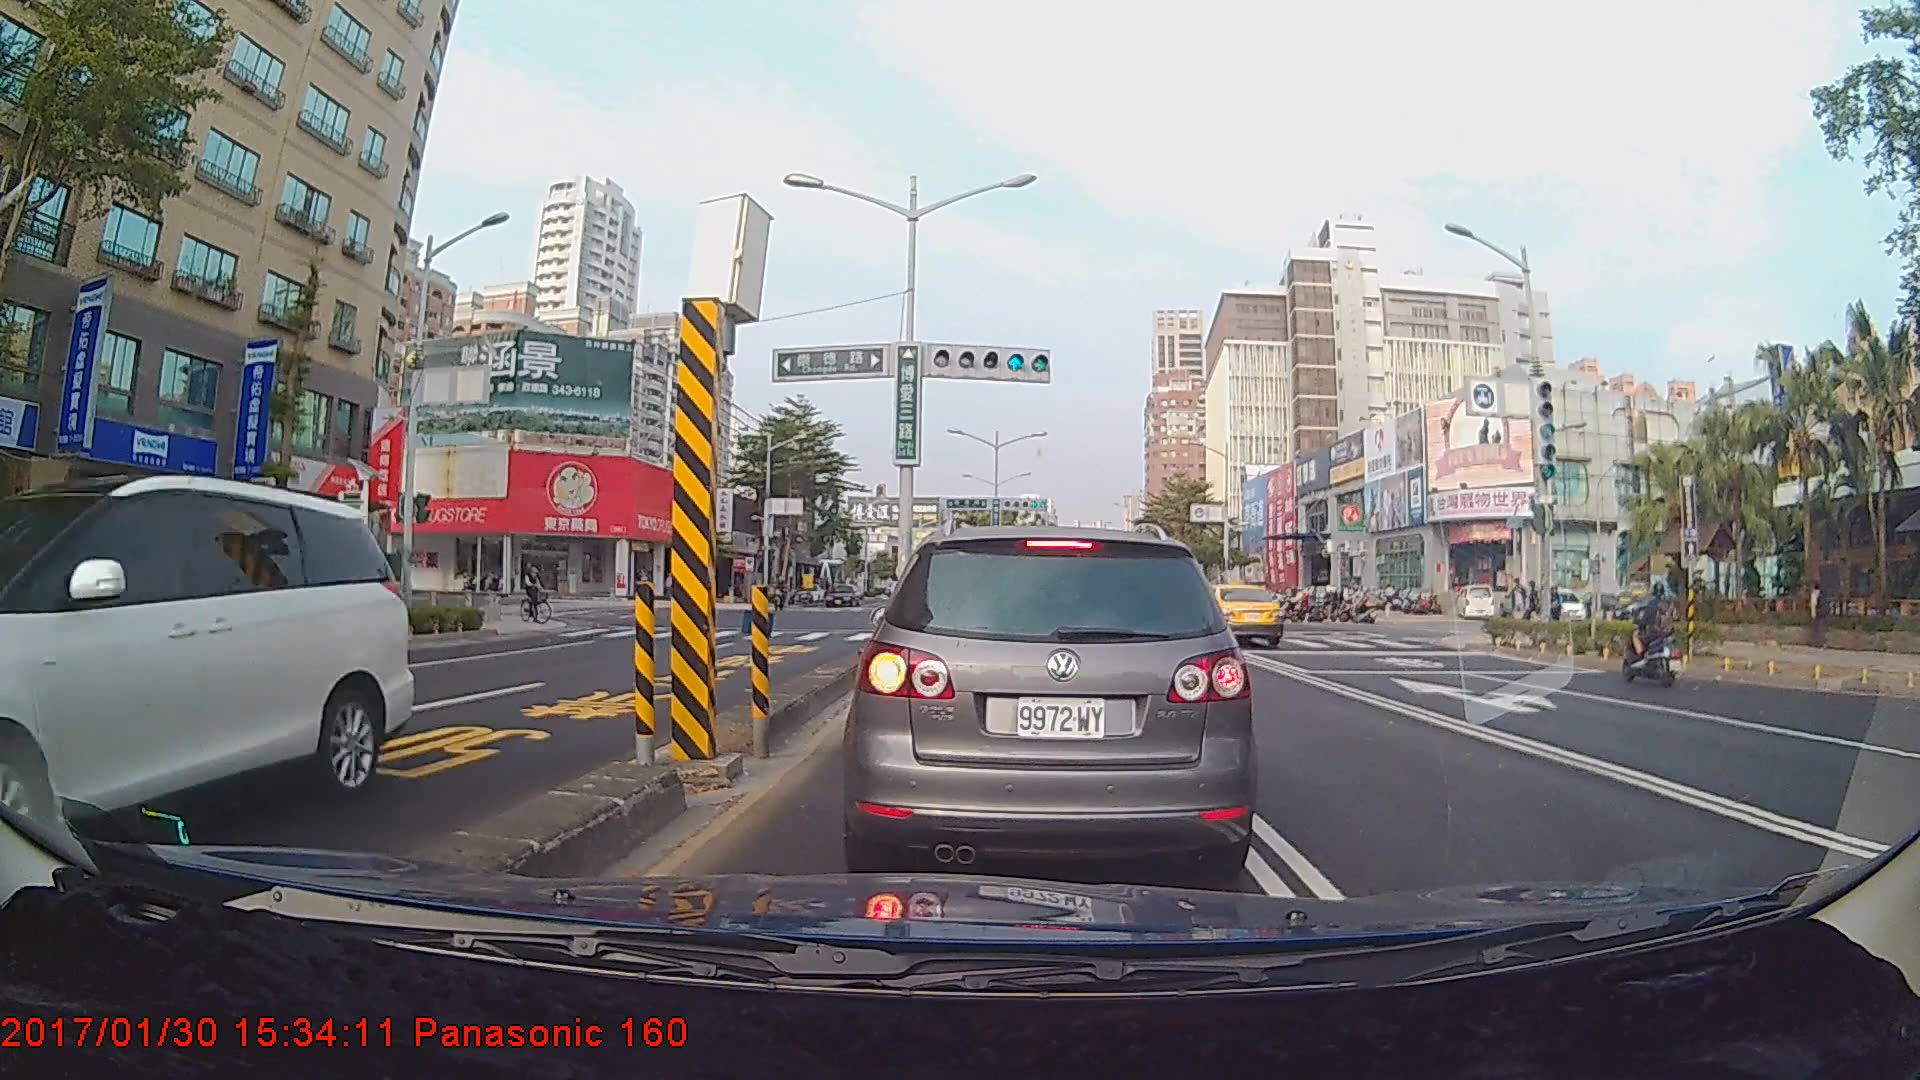pedestrian: (1805, 579, 1830, 647)
rider: (1619, 579, 1688, 690), (518, 559, 561, 629)
vehicle: (0, 472, 414, 888), (858, 522, 1250, 873), (1186, 581, 1285, 647)
